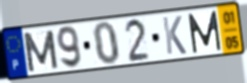0: (90, 21, 122, 67)
2: (124, 16, 151, 63)
9: (54, 25, 84, 70)
K: (161, 15, 188, 57)
M: (21, 29, 61, 74), (186, 9, 224, 56)
